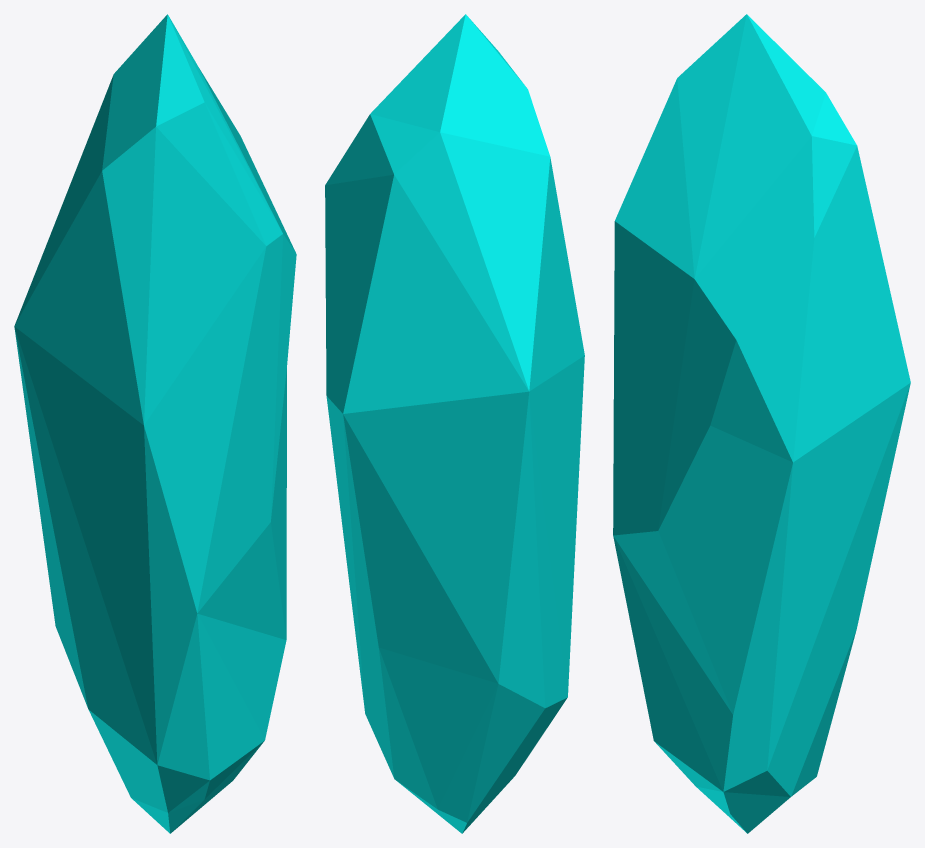
Rendered from Crystal_4.fbx.
3 renders of one model, left to right at view 1: azimuth 30°, elevation 25°; view 2: azimuth 150°, elevation 25°; view 3: azimuth 270°, elevation 25°, orthographic.
Parts seen in each view (by area): view 1: Crystal_5; view 2: Crystal_5; view 3: Crystal_5.
Part boxes in pixels (left/top/right/bottom): Crystal_5: left=14, top=14, right=296, bottom=833; Crystal_5: left=325, top=14, right=584, bottom=833; Crystal_5: left=613, top=14, right=910, bottom=833.
Size of the model in its own units: 32.65 by 110 by 36.36.
